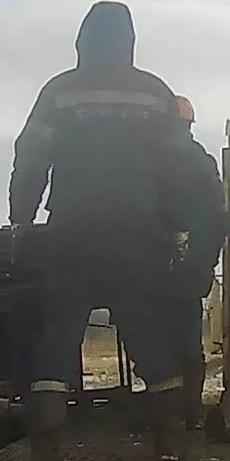helmet: (173, 95, 198, 125)
vest: (35, 64, 171, 269)
